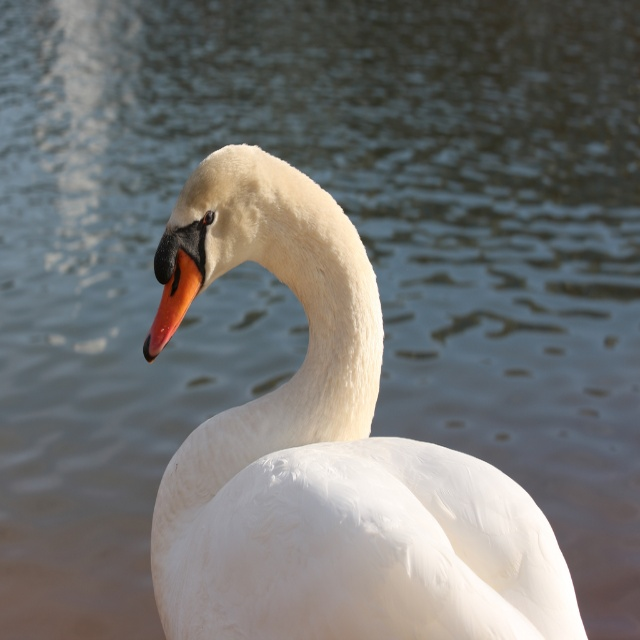Duck: (143, 141, 587, 639)
